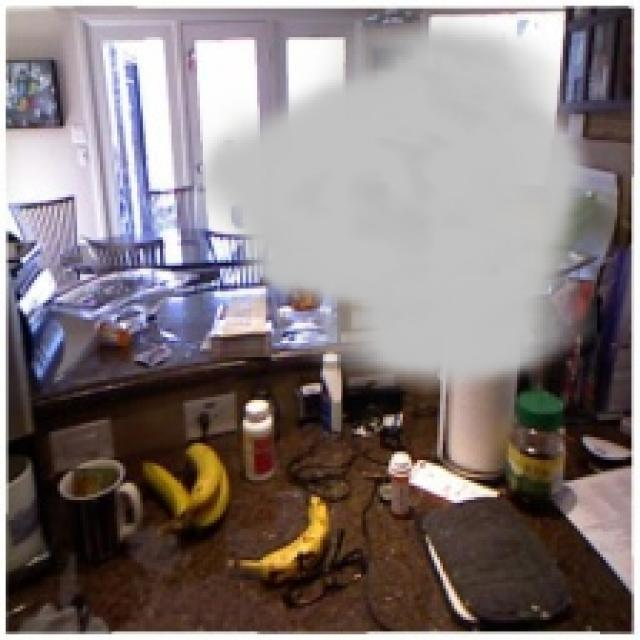Smoke: (185, 6, 598, 394)
